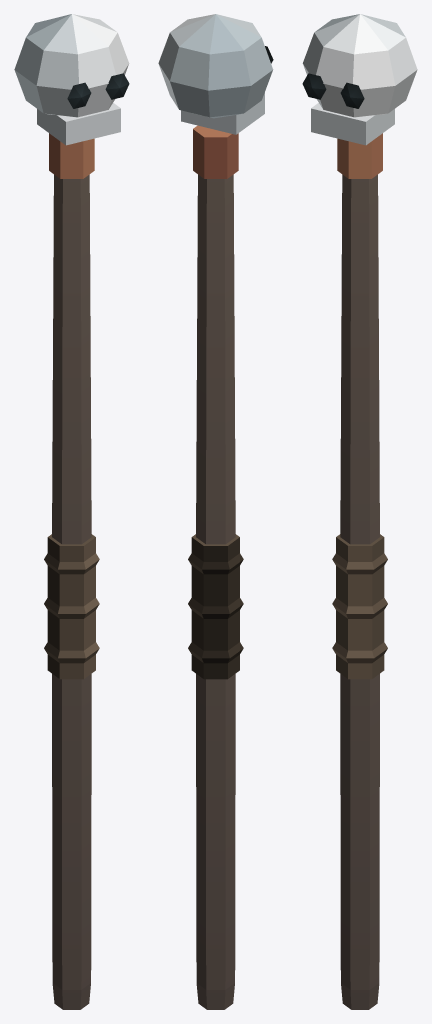
Rendered from mage_skullstaff_0.gltf.
3 renders of one model, left to right at view 1: azimuth 30°, elevation 25°; view 2: azimuth 150°, elevation 25°; view 3: azimuth 330°, elevation 25°, orthographic.
Parts seen in each view (by area): view 1: mage_skullstaff_0; view 2: mage_skullstaff_0; view 3: mage_skullstaff_0.
Boxes of the visible parts, x1,y1,x2,y2 form: mage_skullstaff_0: (14,14,129,1009); mage_skullstaff_0: (158,14,273,1009); mage_skullstaff_0: (302,14,417,1009).
Size of the model in its own units: 0.2328 by 2.38 by 0.2424.
Materials: 1 (1 with a texture image).
